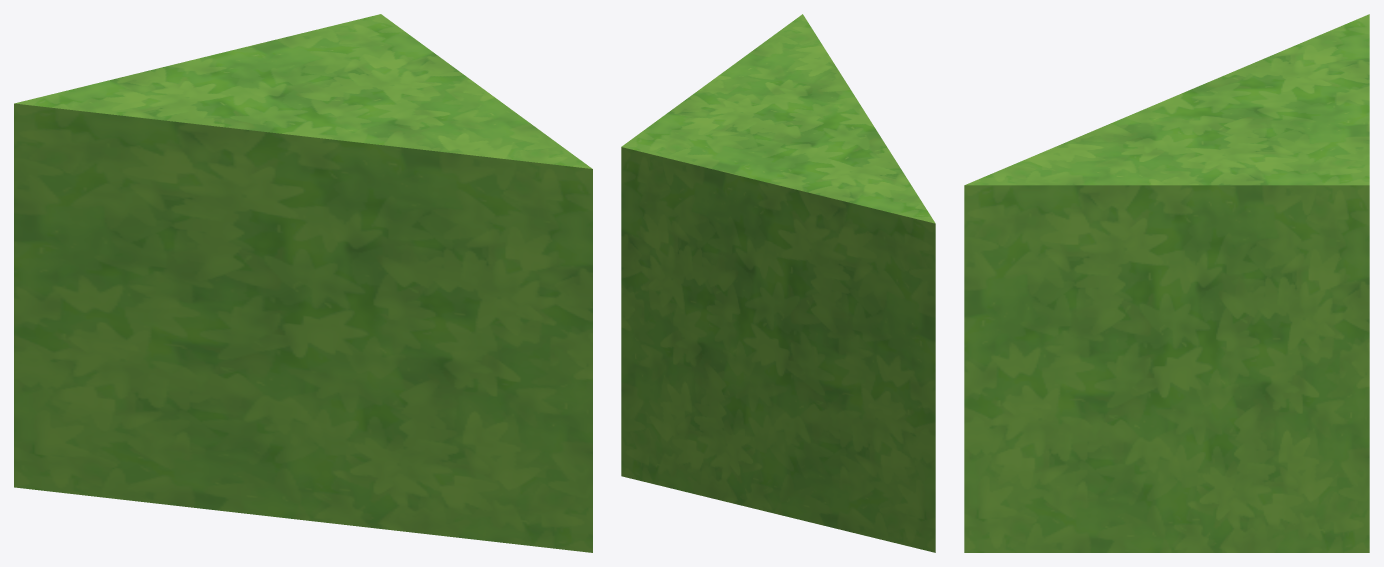
File: AngleTile_1x1x4.fbx
3 renders of one model, left to right at view 1: azimuth 30°, elevation 25°; view 2: azimuth 150°, elevation 25°; view 3: azimuth 270°, elevation 25°, orthographic. The views are drawn at different scales.
Visible parts, largest first — view 1: Cube; view 2: Cube; view 3: Cube.
Part boxes in pixels (bbox=[...]): Cube: bbox=[14, 14, 592, 552]; Cube: bbox=[621, 14, 935, 552]; Cube: bbox=[964, 14, 1369, 552].
Bounding box in the file's own units: 2 × 2 × 2.
